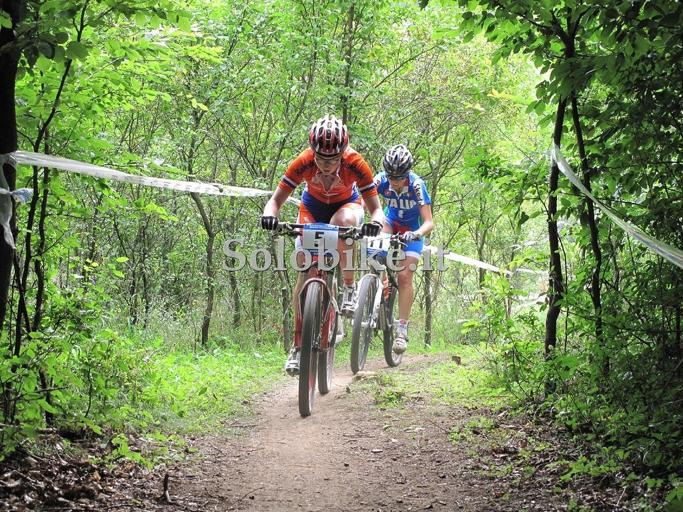non-vehicle: (256, 215, 373, 418), (343, 230, 421, 375)
